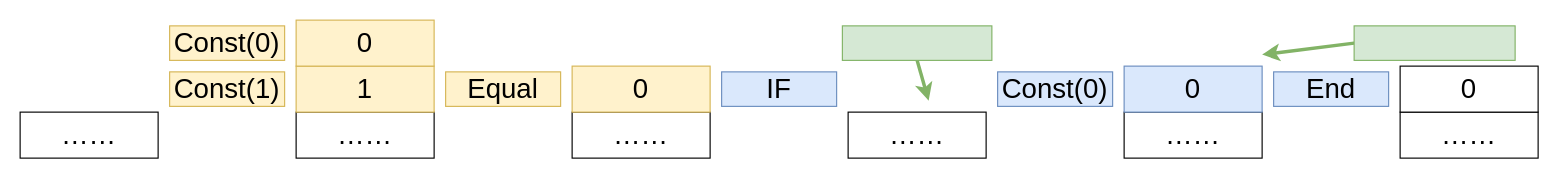
This 1558x178 diagram has some shape labels left out. Here are the shapes that lost their labels. From the top down, the centre of each, then its label:
the point at 916,42: Param: _
the point at 1434,42: Result: I32
